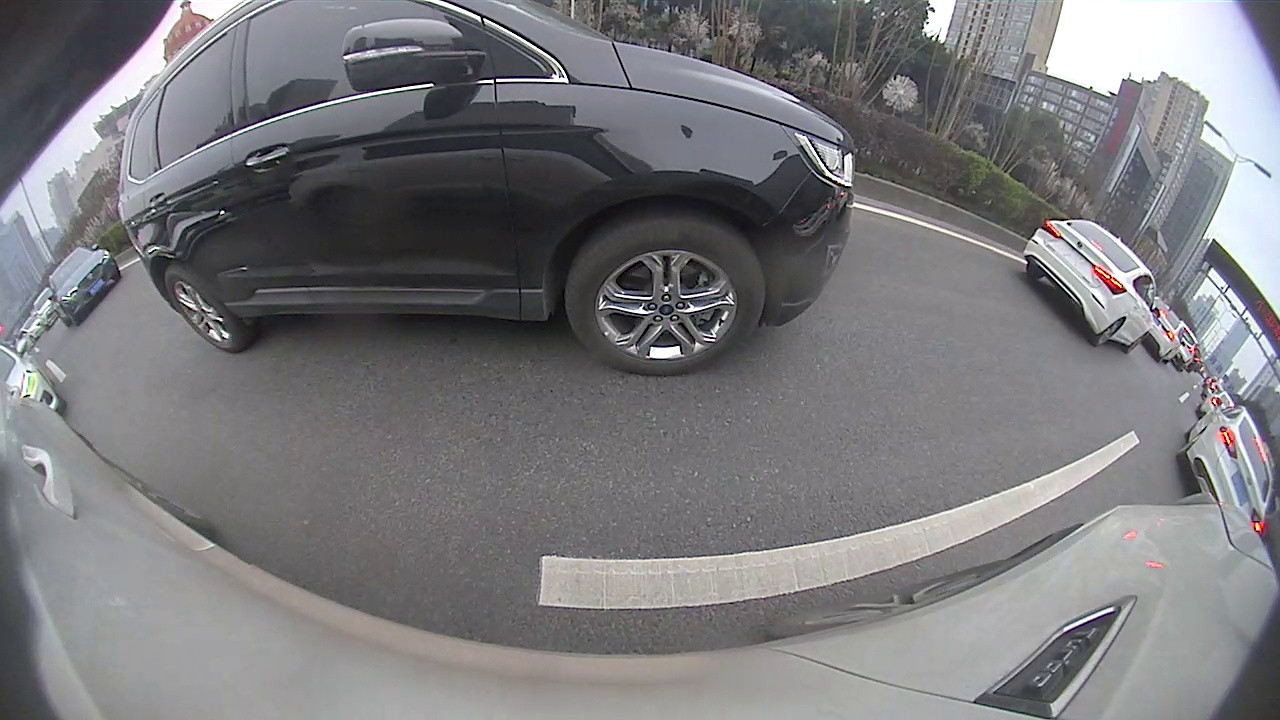car: (116, 1, 856, 377), (1021, 217, 1162, 353), (1178, 397, 1276, 536), (46, 244, 121, 329)
front: (565, 219, 766, 378)
rear: (165, 263, 246, 357), (1095, 318, 1126, 347)
